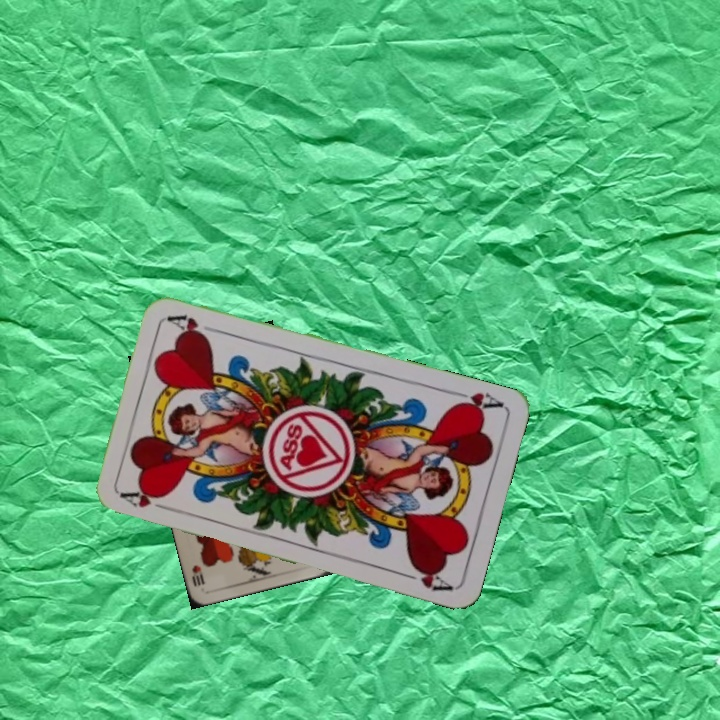HA: (446, 386, 505, 416), (117, 486, 176, 515)
